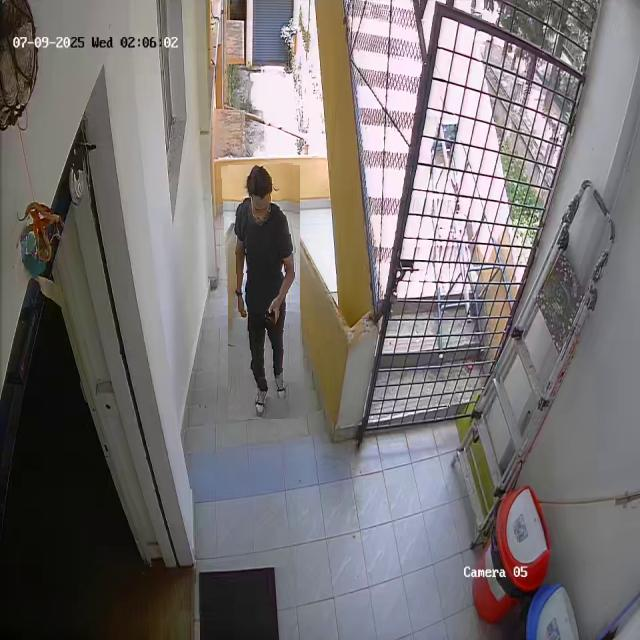person: (225, 164, 303, 420)
